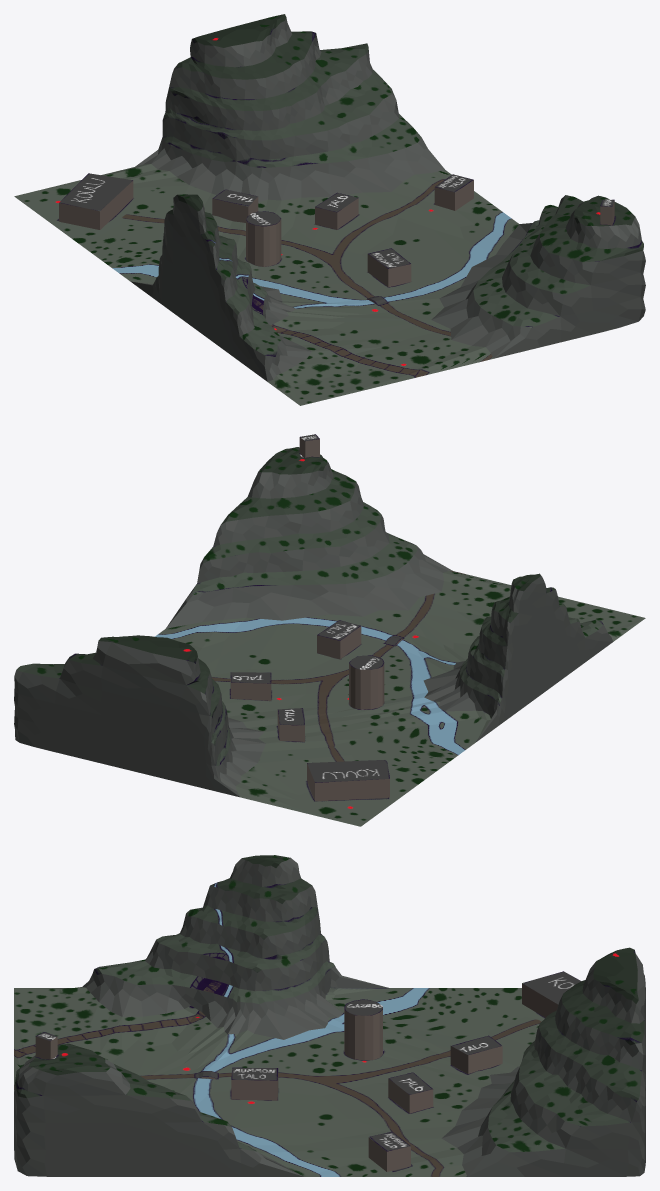
File: Kuvapeli_kartta1.fbx
The picture shows the model from 3 angles, top to bottom: view 1: azimuth 30°, elevation 25°; view 2: azimuth 150°, elevation 25°; view 3: azimuth 270°, elevation 25°; orthographic projection. The views are drawn at different scales.
Parts seen in each view (by area): view 1: Maa, Koulu, Gazebo, MummonTalo, TaloA, TaloB, KaverinTalo; view 2: Maa, Koulu, Gazebo, MummonTalo, TaloA, TaloB; view 3: Maa, Gazebo, Koulu, MummonTalo, TaloB, TaloA, KaverinTalo, maja.
Boxes of the visible parts, <box> form: Maa: <box>14,14,645,405</box>; Koulu: <box>59,173,133,229</box>; Gazebo: <box>246,211,281,266</box>; MummonTalo: <box>367,248,411,287</box>; TaloA: <box>315,192,358,229</box>; TaloB: <box>212,189,258,222</box>; KaverinTalo: <box>434,174,473,210</box>; Maa: <box>14,447,645,826</box>; Koulu: <box>307,759,389,801</box>; Gazebo: <box>349,655,384,709</box>; MummonTalo: <box>317,620,361,659</box>; TaloA: <box>230,672,271,700</box>; TaloB: <box>277,708,304,741</box>; Maa: <box>14,855,645,1176</box>; Gazebo: <box>344,999,382,1060</box>; Koulu: <box>522,971,580,1017</box>; MummonTalo: <box>231,1067,278,1100</box>; TaloB: <box>450,1035,502,1073</box>; TaloA: <box>388,1072,433,1113</box>; KaverinTalo: <box>368,1132,410,1171</box>; maja: <box>35,1032,57,1059</box>.
Size of the model in its own units: 15000 by 4993 by 21212.
